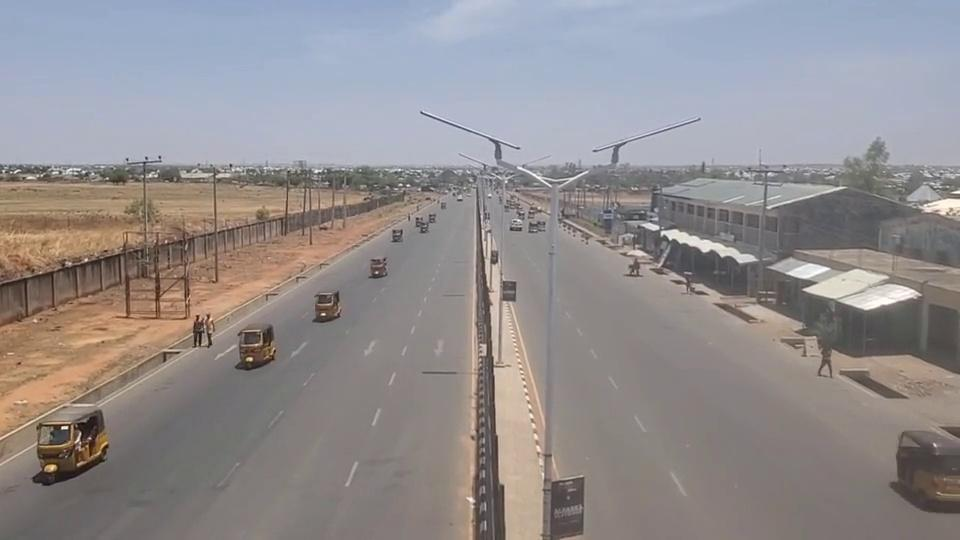keke: (896, 427, 960, 514), (35, 402, 109, 476), (236, 322, 276, 369), (313, 290, 341, 320), (370, 255, 390, 278)
